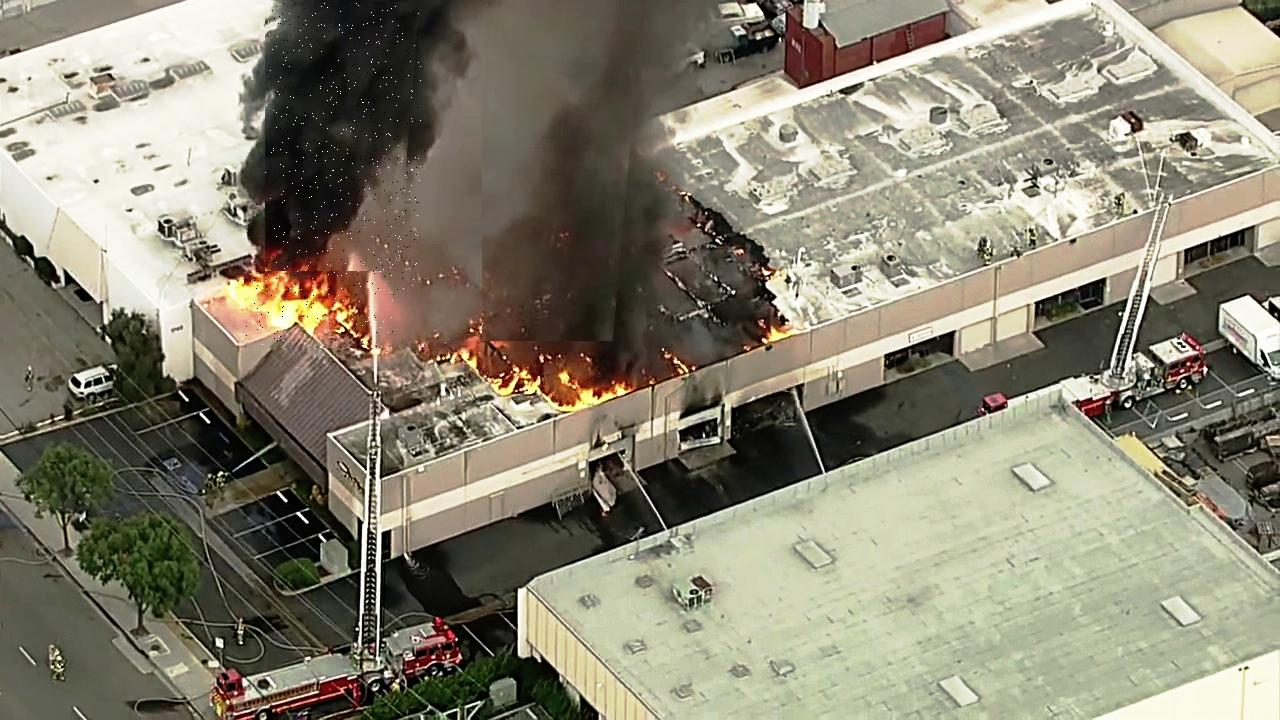fire: (245, 273, 397, 348)
smoke: (482, 0, 642, 341), (265, 3, 421, 294)
